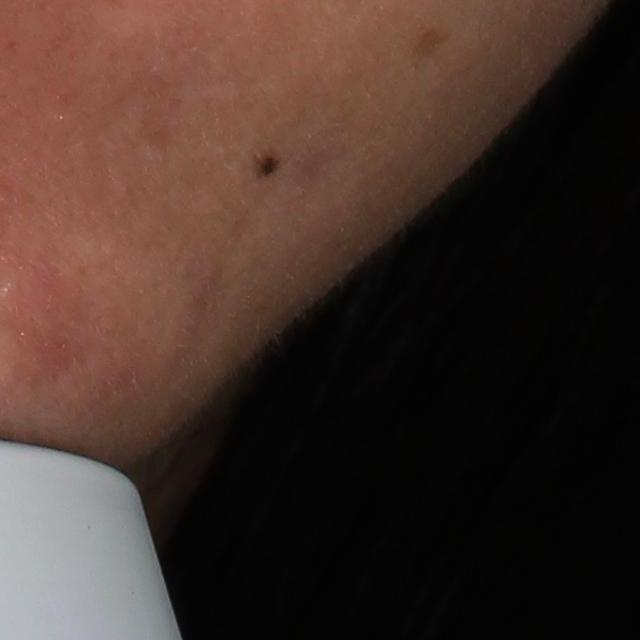nevus: (258, 155, 283, 184)
